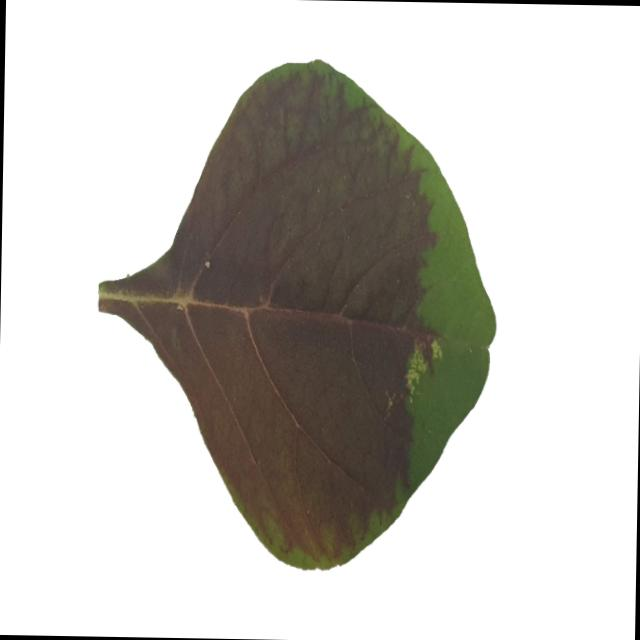Medicinal-Arive Dantu: (95, 54, 500, 575)
